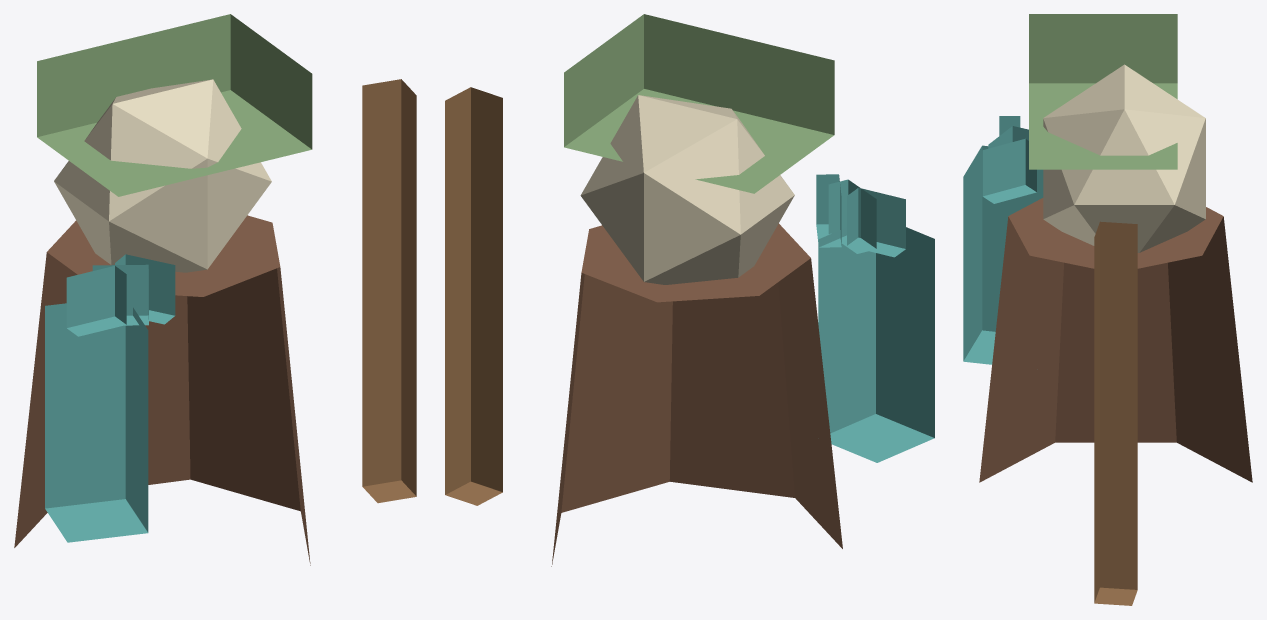
Rendered from player_archer.glb.
3 renders of one model, left to right at view 1: azimuth 30°, elevation 25°; view 2: azimuth 150°, elevation 25°; view 3: azimuth 270°, elevation 25°, orthographic. The views are drawn at different scales.
Visible parts, largest first — view 1: body, hood, head, bow, quiver, feather_0, feather_2, feather_1; view 2: body, head, hood, bow, quiver, feather_0, feather_1, feather_2; view 3: body, head, bow, hood, quiver, feather_2, feather_1.
Boxes of the visible parts, box(x1,y1,x2,y2) form: body: box(14, 215, 310, 565); hood: box(37, 14, 312, 196); head: box(54, 79, 271, 272); bow: box(362, 79, 416, 503); quiver: box(45, 303, 148, 542); feather_0: box(66, 266, 126, 336); feather_2: box(115, 254, 175, 324); feather_1: box(92, 264, 148, 325); body: box(551, 223, 842, 566); head: box(580, 95, 794, 284); hood: box(564, 14, 834, 193); bow: box(445, 87, 502, 505); quiver: box(818, 227, 934, 462); feather_0: box(847, 187, 905, 257); feather_1: box(828, 179, 876, 253); feather_2: box(816, 174, 841, 247); body: box(979, 198, 1252, 482); head: box(1043, 64, 1205, 252); bow: box(1094, 221, 1137, 605); hood: box(1029, 14, 1177, 169); quiver: box(963, 145, 1043, 364); feather_2: box(982, 138, 1036, 203); feather_1: box(988, 126, 1028, 193).
Bounding box in the file's own units: 1.03 × 1.14 × 0.6812.
